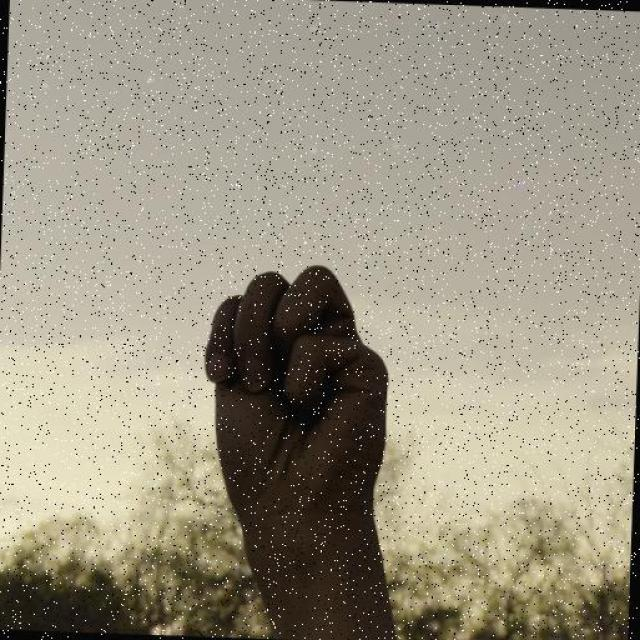M: (200, 256, 402, 518)
